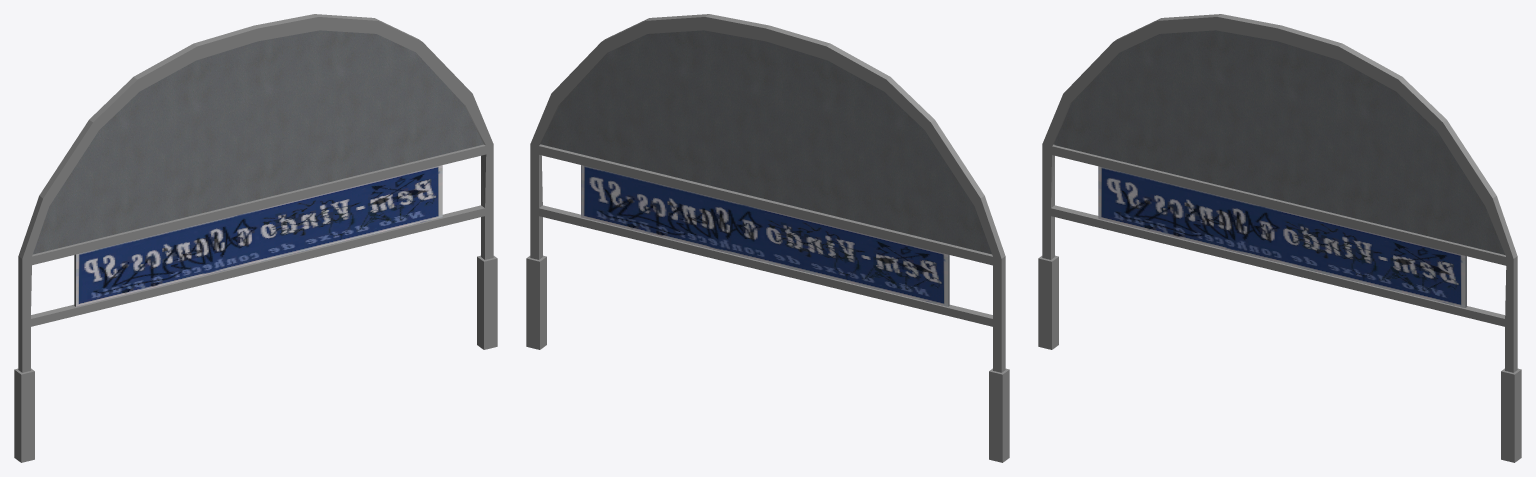
The model's file is arch_sign.obj.
3 views of the same model, side by side, from view 1: azimuth 30°, elevation 25°; view 2: azimuth 150°, elevation 25°; view 3: azimuth 330°, elevation 25° (orthographic).
Parts seen in each view (by area): view 1: Arch_sign; view 2: Arch_sign; view 3: Arch_sign.
Boxes of the visible parts, bbox=[...] form: Arch_sign: bbox=[14, 14, 497, 462]; Arch_sign: bbox=[526, 14, 1009, 462]; Arch_sign: bbox=[1038, 14, 1521, 462].
Bounding box in the file's own units: 28.3 × 21.3 × 0.7259.
3 materials, 2 textured.
